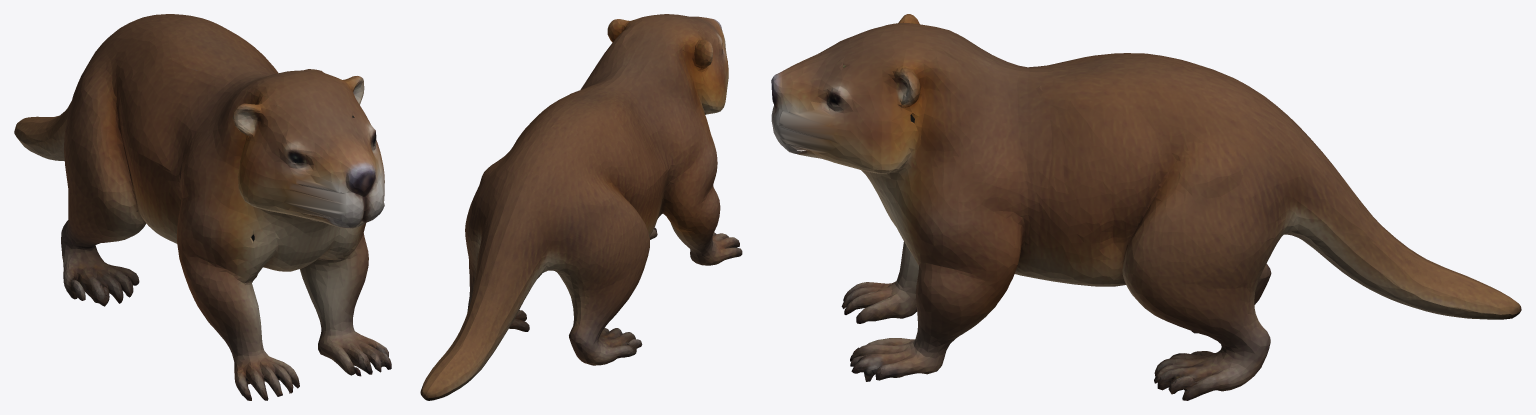
3 views of the same model, side by side, from view 1: azimuth 30°, elevation 25°; view 2: azimuth 150°, elevation 25°; view 3: azimuth 270°, elevation 25° (orthographic). The views are drawn at different scales.
Parts seen in each view (by area): view 1: world, Cheek local surface 2; view 2: world; view 3: world, Cheek local surface 3.
Boxes of the visible parts, bbox=[...] form: world: bbox=[14, 14, 391, 400]; Cheek local surface 2: bbox=[284, 175, 346, 221]; world: bbox=[420, 14, 742, 400]; world: bbox=[771, 14, 1521, 400]; Cheek local surface 3: bbox=[776, 105, 840, 158].
Bounding box in the file's own units: 0.1812 × 0.2567 × 0.55.
Materials: 2 (1 with a texture image).
